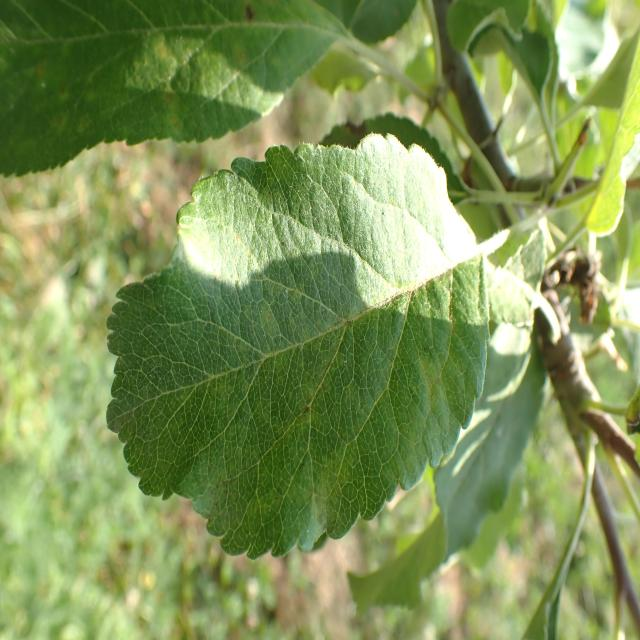scab: (156, 197, 483, 513), (0, 0, 290, 156)
